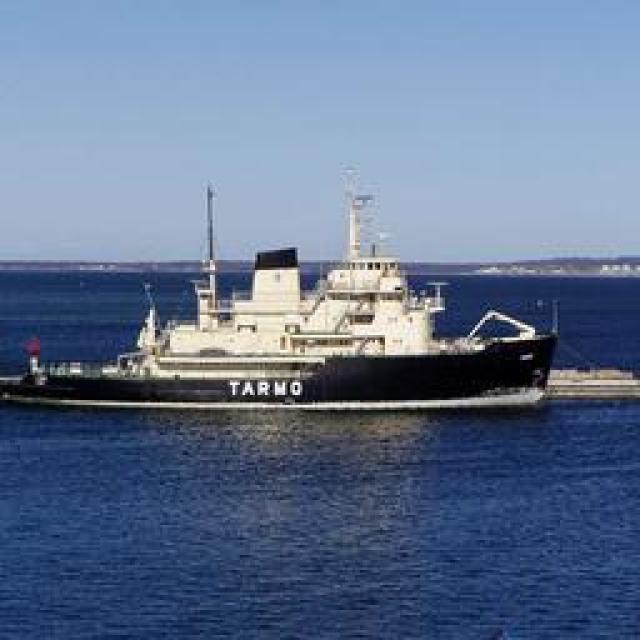ship2: (0, 169, 558, 410)
